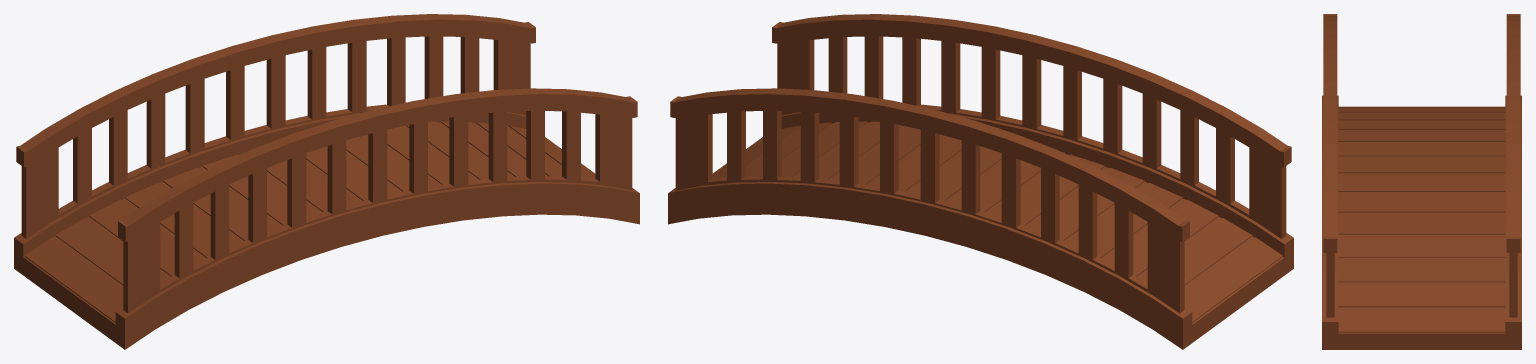
File: Bridge.fbx
The picture shows the model from 3 angles, left to right: view 1: azimuth 30°, elevation 25°; view 2: azimuth 150°, elevation 25°; view 3: azimuth 270°, elevation 25°; orthographic projection. The views are drawn at different scales.
Visible parts, largest first — view 1: Cube.001; view 2: Cube.001; view 3: Cube.001.
Part boxes in pixels (bbox=[...]): Cube.001: bbox=[14, 14, 639, 349]; Cube.001: bbox=[668, 14, 1293, 349]; Cube.001: bbox=[1322, 14, 1521, 349].
Size of the model in its own units: 841 by 268 by 314.
